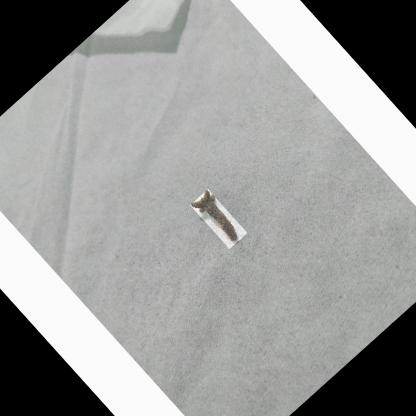buruk: (191, 190, 240, 242)
